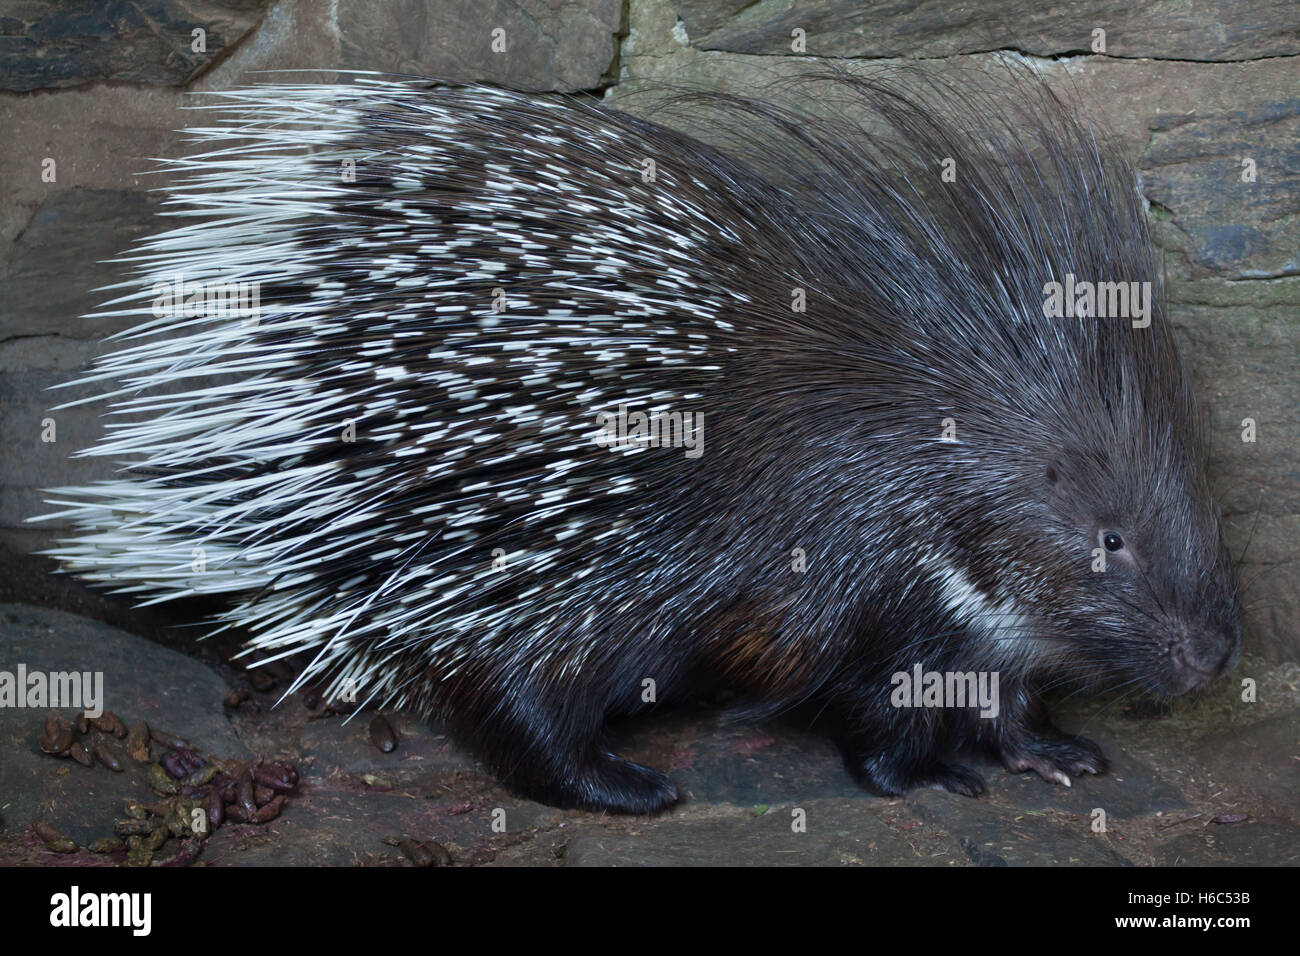porcupine: (32, 57, 1267, 821)
